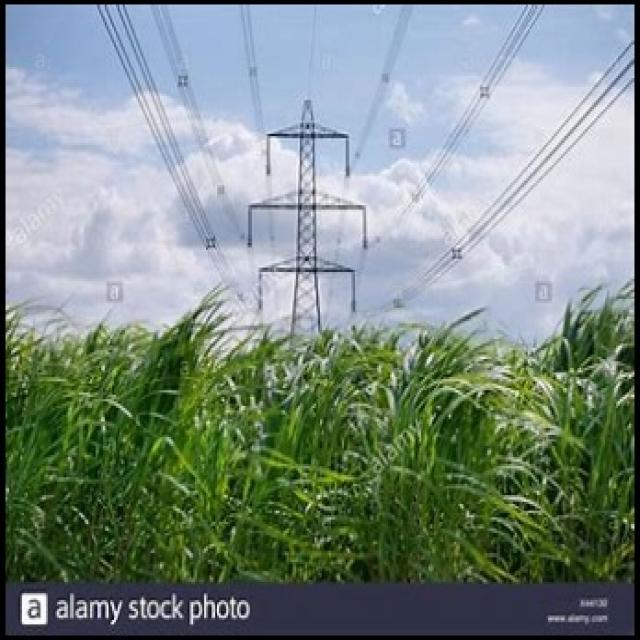utility poles: (250, 76, 363, 578)
